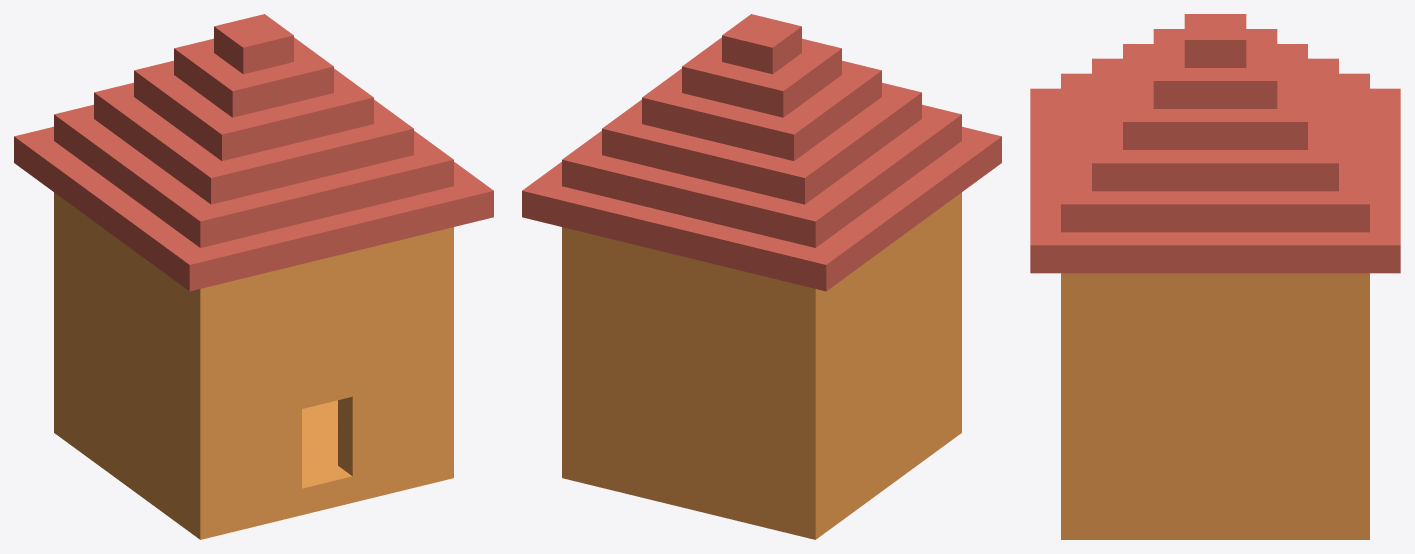
The model's file is house0.obj.
The picture shows the model from 3 angles, left to right: view 1: azimuth 30°, elevation 25°; view 2: azimuth 150°, elevation 25°; view 3: azimuth 270°, elevation 25°; orthographic projection. The views are drawn at different scales.
Visible parts, largest first — view 1: house0; view 2: house0; view 3: house0.
Boxes of the visible parts, <box> form: house0: <box>14,14,493,539</box>; house0: <box>522,14,1001,539</box>; house0: <box>1030,14,1400,539</box>.
Bounding box in the file's own units: 12 × 16 × 12.
1 material, 1 textured.
